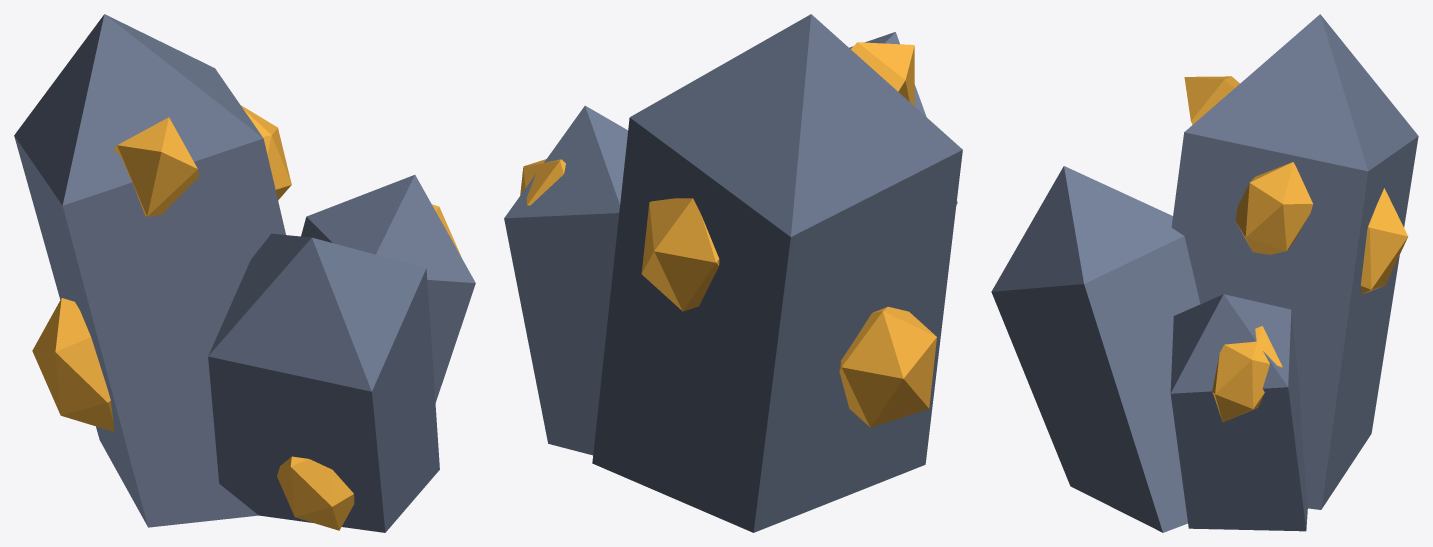
The model's file is resource_stone1.fbx.
3 views of the same model, side by side, from view 1: azimuth 30°, elevation 25°; view 2: azimuth 150°, elevation 25°; view 3: azimuth 270°, elevation 25° (orthographic). The views are drawn at different scales.
Parts seen in each view (by area): view 1: resource_stone1; view 2: resource_stone1; view 3: resource_stone1.
Part boxes in pixels (x1,y1,x2,y2): resource_stone1: [14, 14, 475, 532]; resource_stone1: [504, 14, 962, 532]; resource_stone1: [991, 14, 1418, 532].
Size of the model in its own units: 99.52 by 110 by 104.
